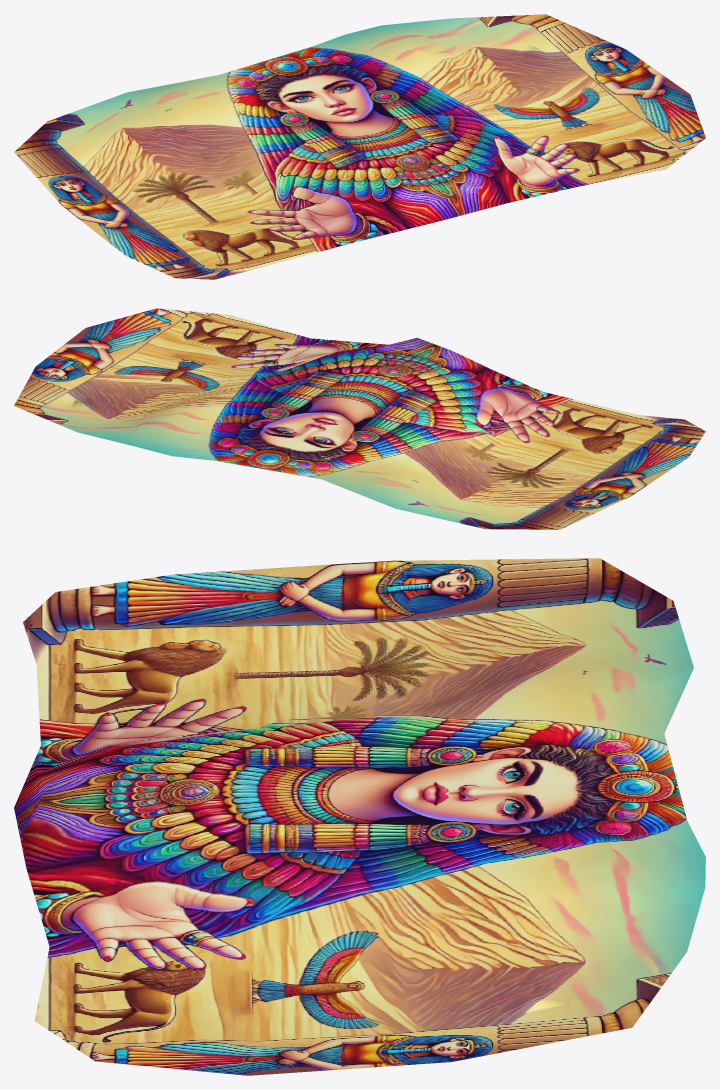
File: Background_fbx_optimized_textured.fbx
3 renders of one model, top to bottom at view 1: azimuth 30°, elevation 25°; view 2: azimuth 150°, elevation 25°; view 3: azimuth 270°, elevation 25°, orthographic. The views are drawn at different scales.
Visible parts, largest first — view 1: DepthMapObj; view 2: DepthMapObj; view 3: DepthMapObj.
Boxes of the visible parts, left/top/right/bottom form: DepthMapObj: left=14, top=14, right=705, bottom=279; DepthMapObj: left=14, top=308, right=705, bottom=529; DepthMapObj: left=14, top=558, right=705, bottom=1075.
Size of the model in its own units: 41210 by 2419 by 23669.
Materials: 1 (1 with a texture image).
